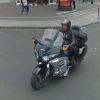Motorcycle: (21, 22, 88, 91)
